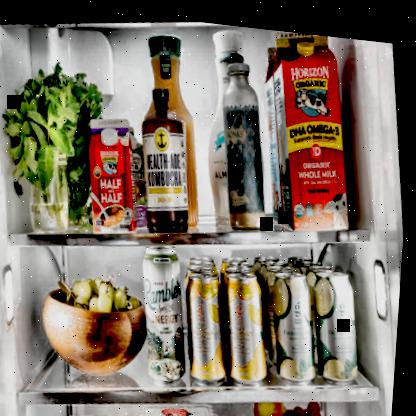apple: (240, 405, 282, 415)
grapes: (75, 271, 129, 312)
milk: (263, 24, 363, 228)
mint: (0, 71, 65, 165)
parsley: (61, 71, 102, 210)
